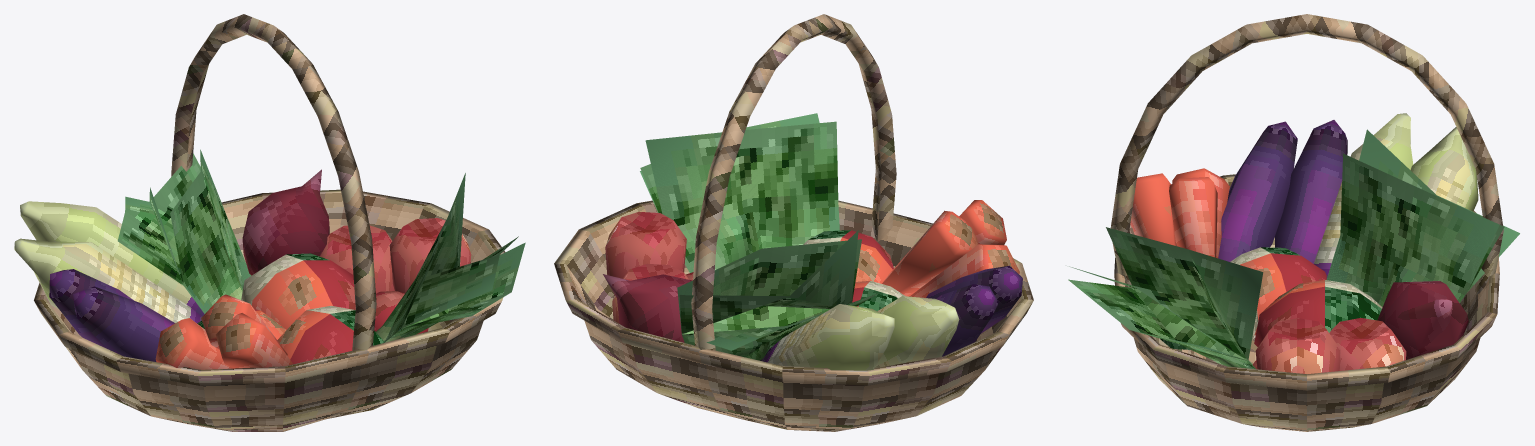
Rendered from int_oth_vege_basket.dae.
3 renders of one model, left to right at view 1: azimuth 30°, elevation 25°; view 2: azimuth 150°, elevation 25°; view 3: azimuth 270°, elevation 25°, orthographic.
Parts seen in each view (by area): view 1: int_oth_vege_basket; view 2: int_oth_vege_basket; view 3: int_oth_vege_basket.
Boxes of the visible parts, bbox=[...] form: int_oth_vege_basket: bbox=[14, 14, 525, 431]; int_oth_vege_basket: bbox=[554, 14, 1033, 431]; int_oth_vege_basket: bbox=[1068, 14, 1519, 431].
Size of the model in its own units: 28.64 by 22.65 by 26.09.
2 materials, 2 textured.
